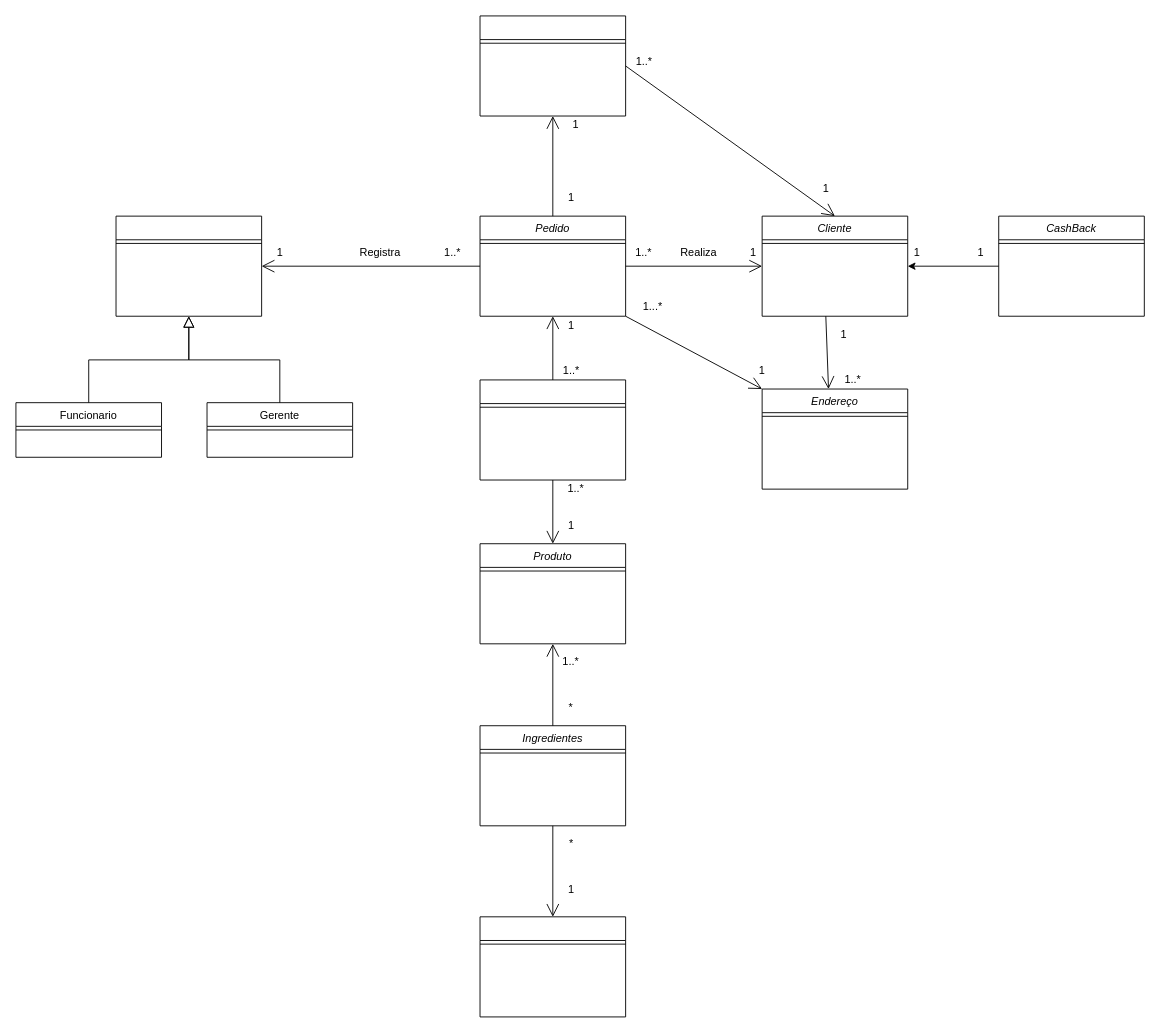
This 1160x1033 diagram has some shape labels left out. Here are the shapes that lost their labels. From the top down, the box of each, then its label:
(479, 15, 626, 116): Pagamento
(115, 215, 262, 316): Pessoa
(479, 379, 626, 480): Itens Pedido
(479, 916, 626, 1017): Estoque
